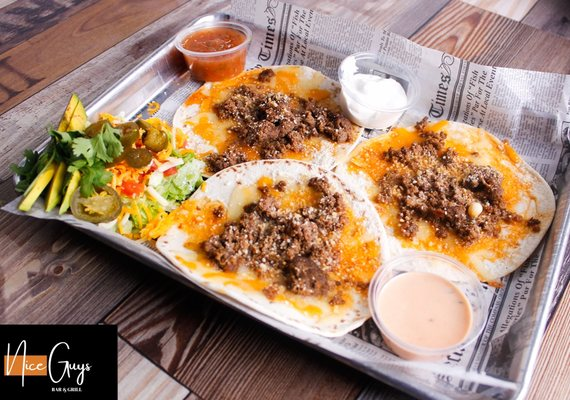pizza: (337, 53, 429, 133)
sushi: (369, 250, 492, 364), (176, 14, 252, 83)
